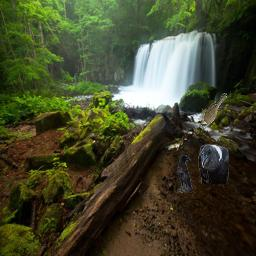Crow: (198, 144, 229, 184), (177, 155, 193, 193)
Cuckoo: (199, 93, 227, 127)
